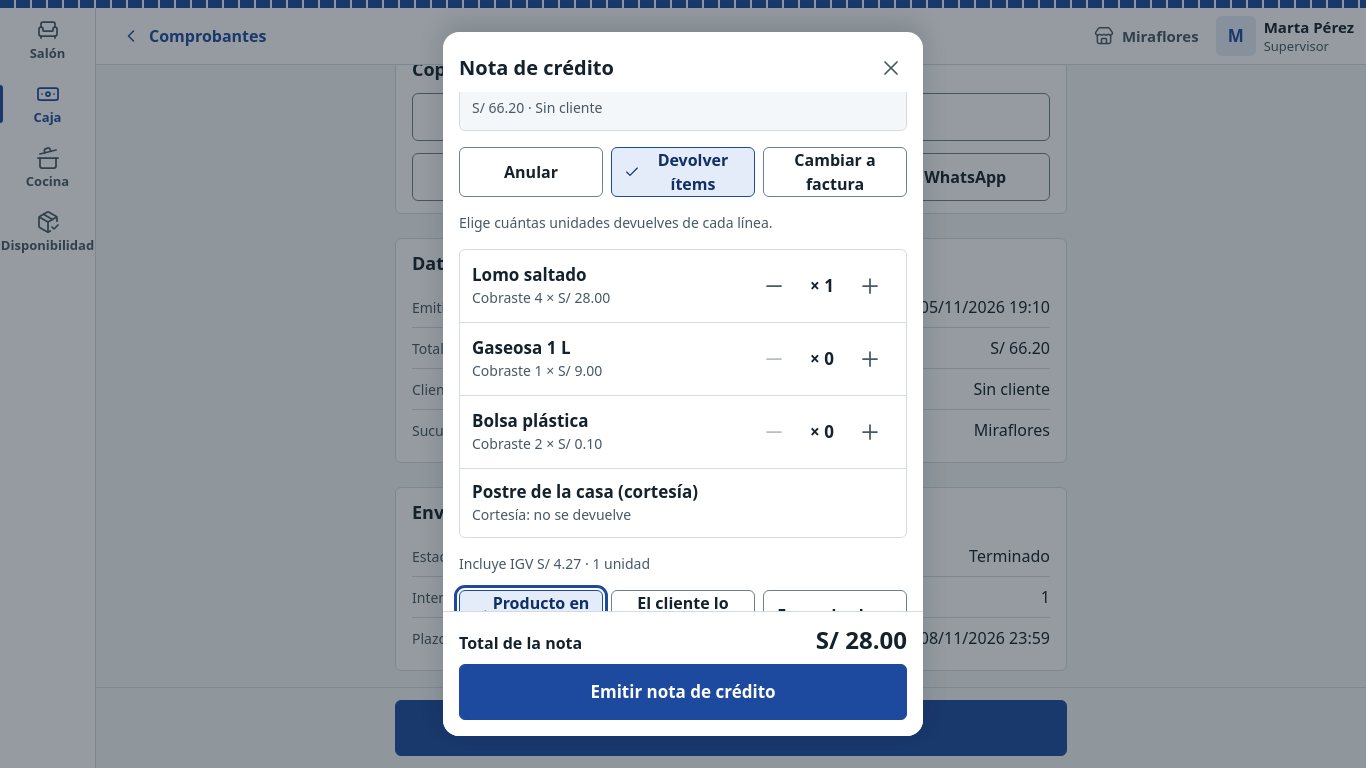
Test: criterio 177 · la hoja que esperaba muestra la nota que ya salió › con el 201 de A y la relectura del comprobante falla, la hoja 2 muestra «Nota de crédito emitida» con el número de A, sin ningún POST y con una sola nota
The image size is (1366, 768).
Earlier steps of the test are not shown.
Later steps or results of the test are not shown.
(page scrolled)
Click the button "Emitir nota de crédito": (683, 692) left=459, top=664, right=907, bottom=720
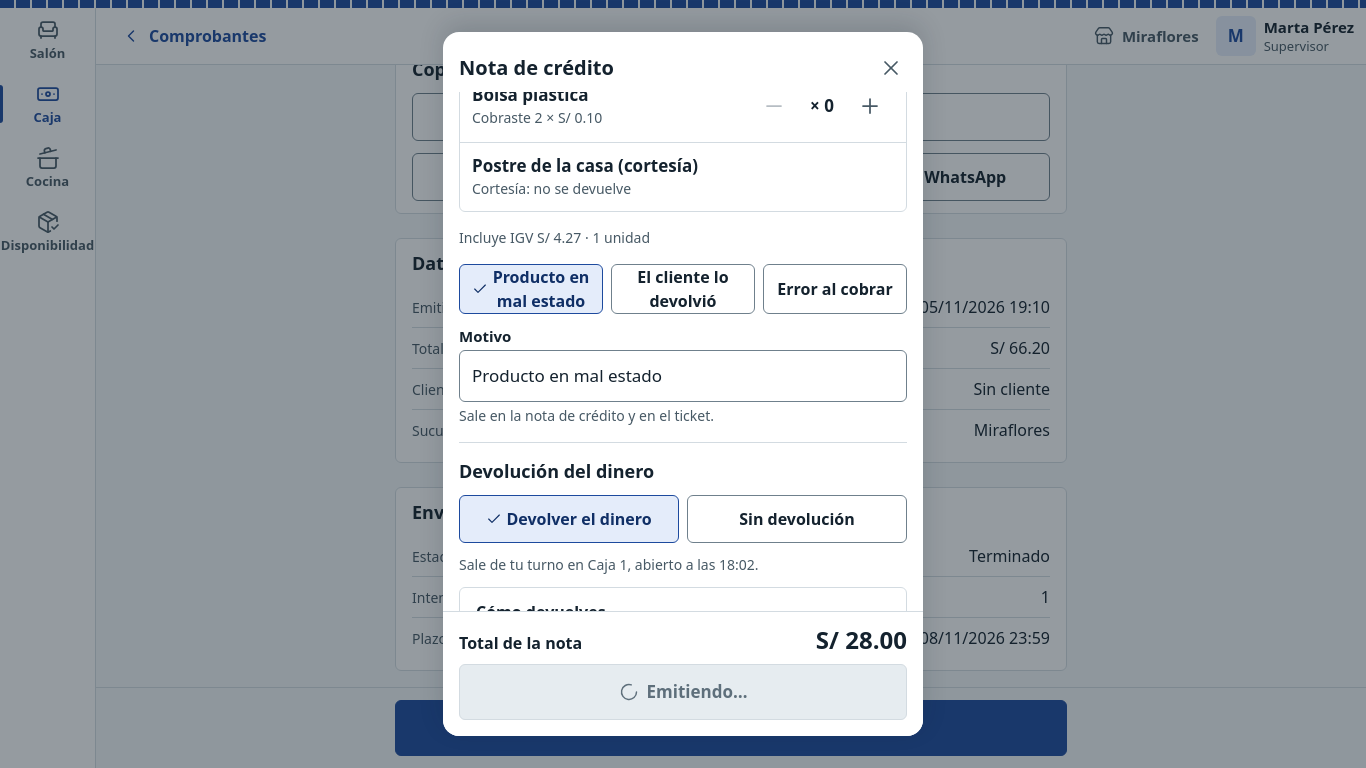
Click the button named "Cerrar": (891, 68) left=867, top=44, right=915, bottom=92
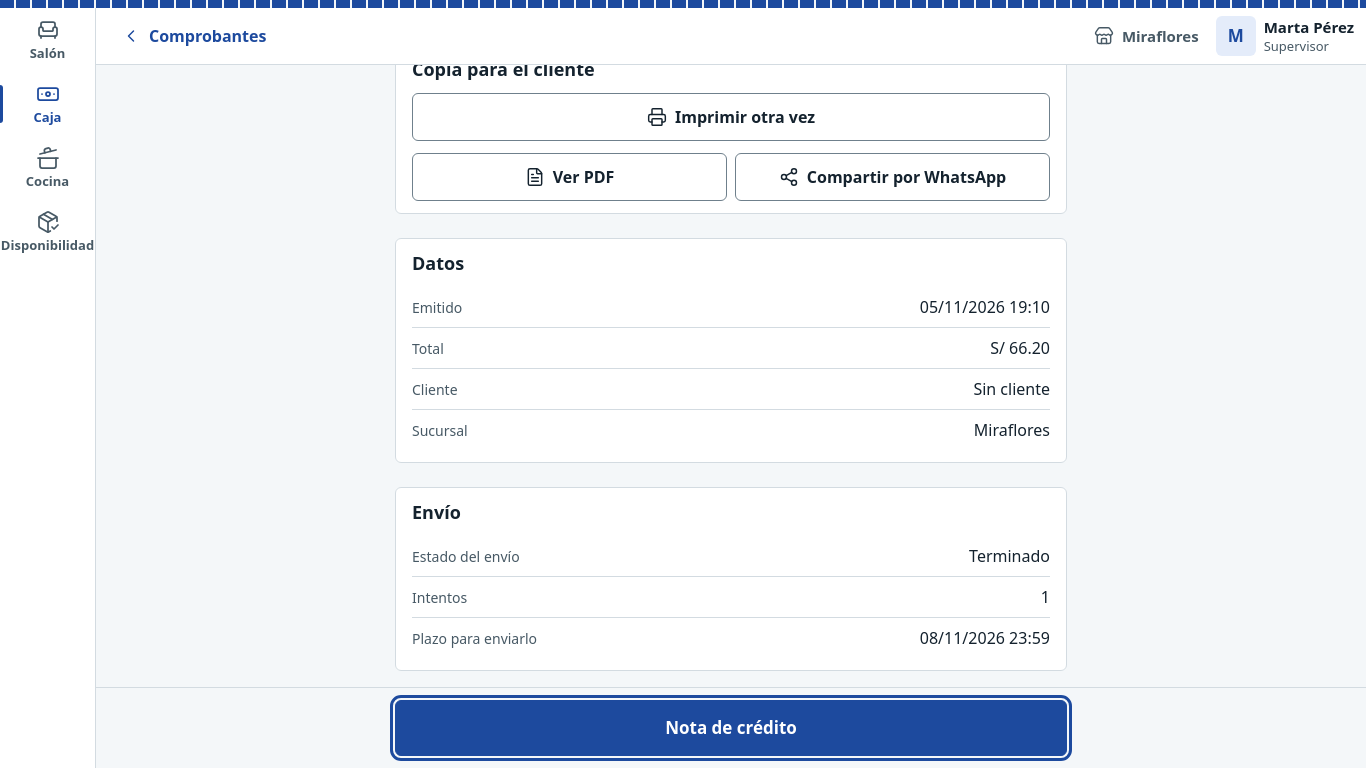
Click the button "Nota de crédito": (731, 728) left=395, top=700, right=1067, bottom=756
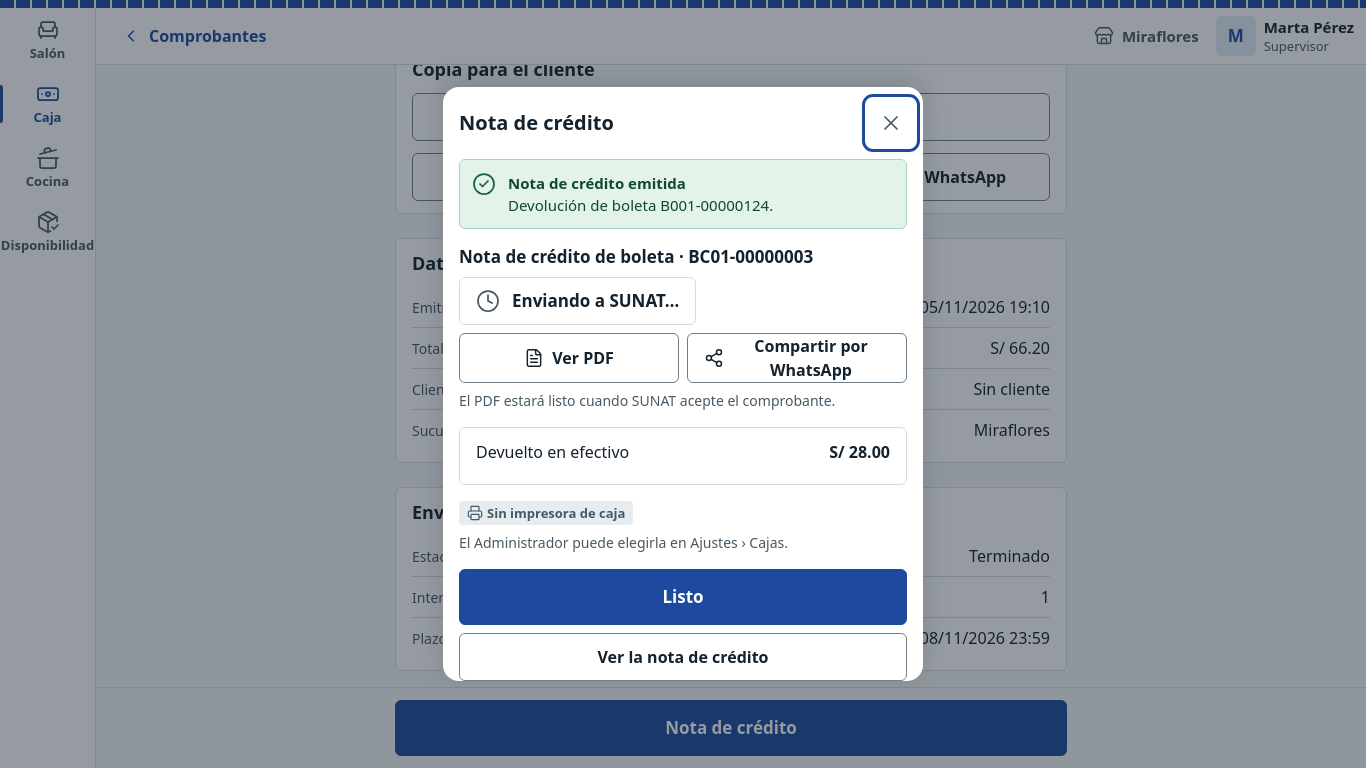
Expected: the button "Emitir nota de crédito" is not shown
Now the text "Nota de crédito emitida" is shown, box left=508, top=173, right=686, bottom=193
Now the text "BC01-00000003" is shown, box left=688, top=245, right=813, bottom=268
